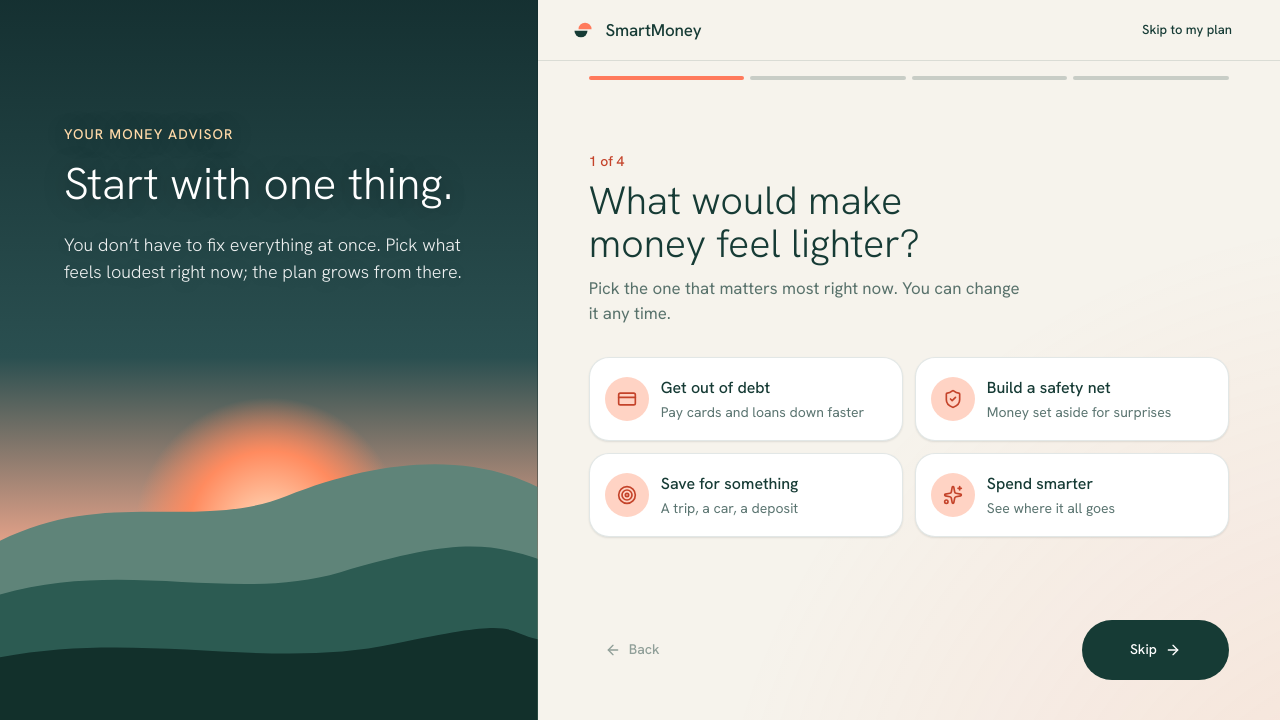
it: setup › says why it asks, for each question
The image size is (1280, 720).
Expected: the text "Start with one thing." is shown, [64,160,474,207]
Step 1. Click the button "Skip" → (1155, 650), box [1082,620,1229,680]
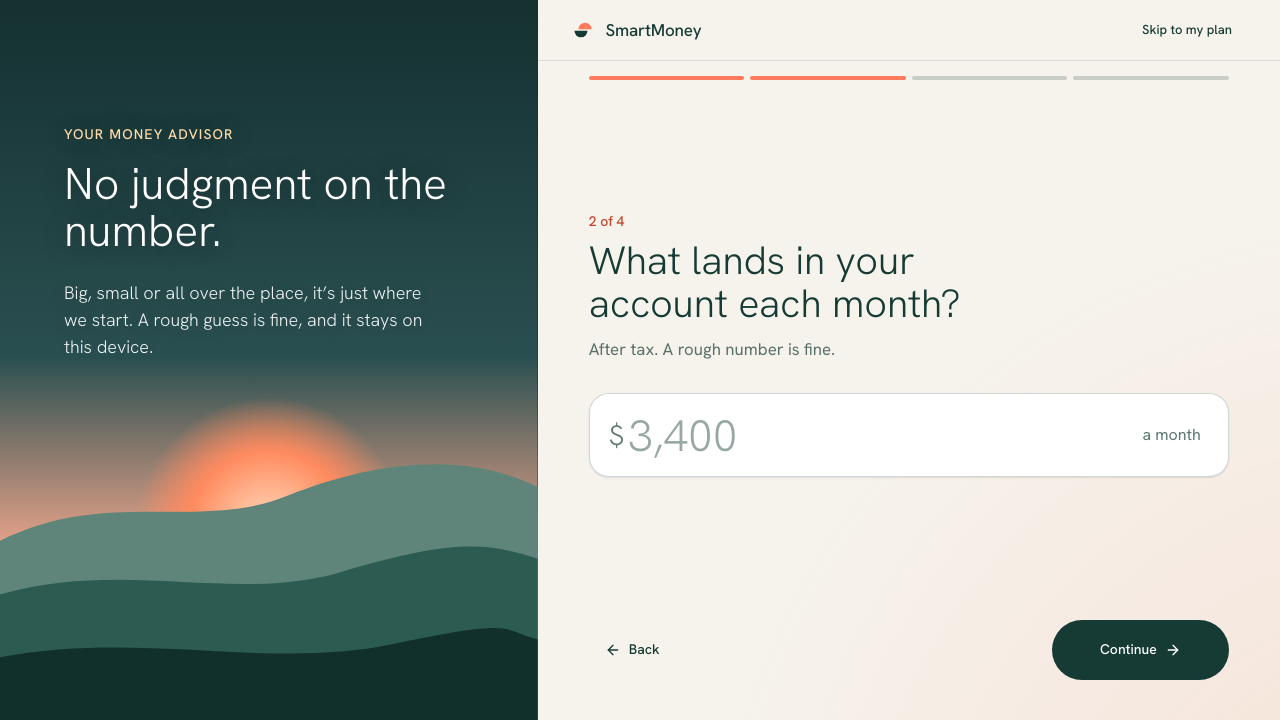
Expected: the text "No judgment on the number." is shown, [64,160,474,255]
